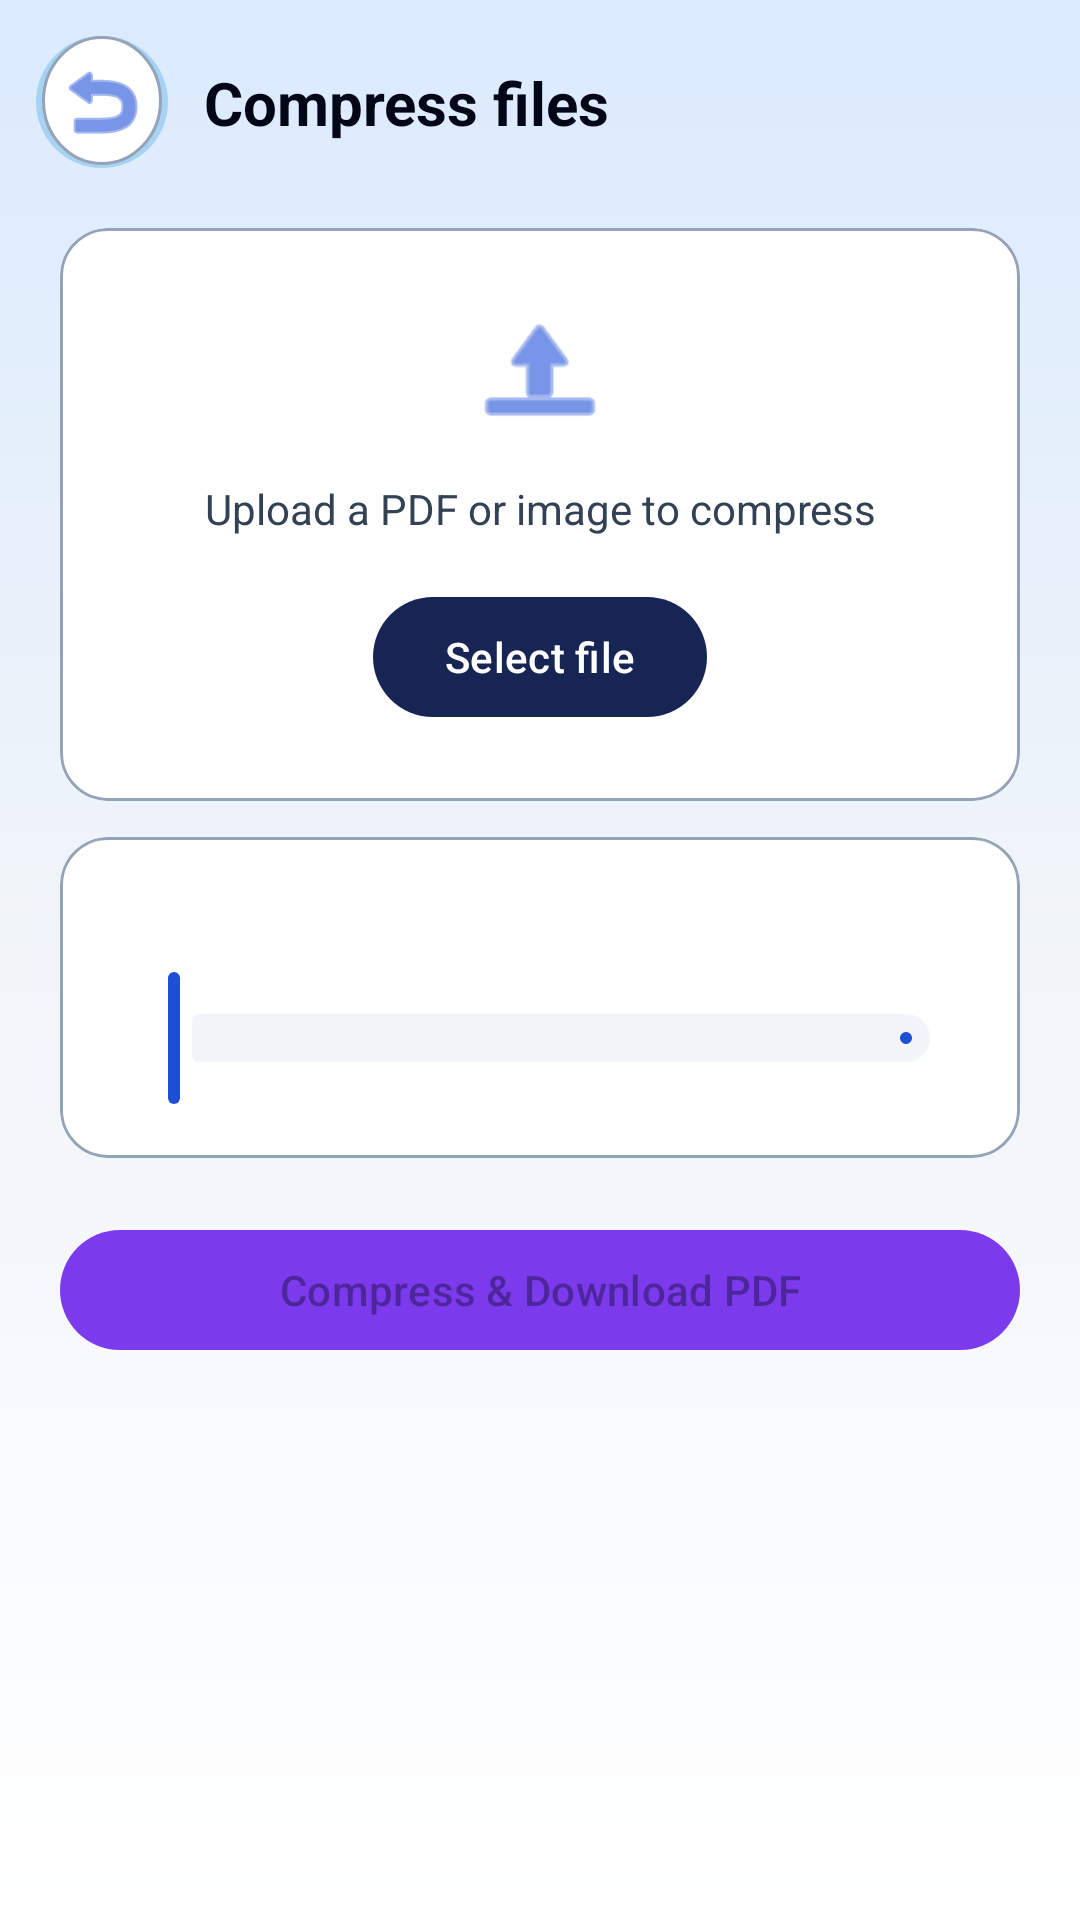

Icon bounding boxes for this 1080px x 1920px phone screenshot, format (x1, y1, x2, y2):
Back: (36, 36, 168, 168)
